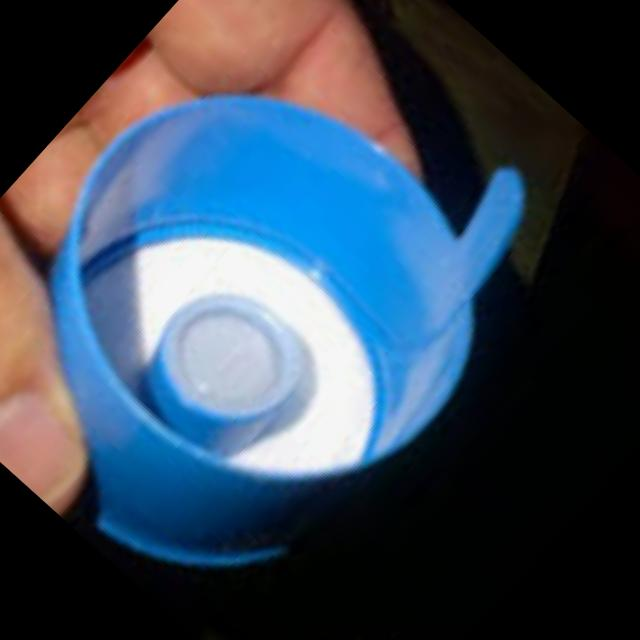TutupGalon: (0, 0, 603, 640)
